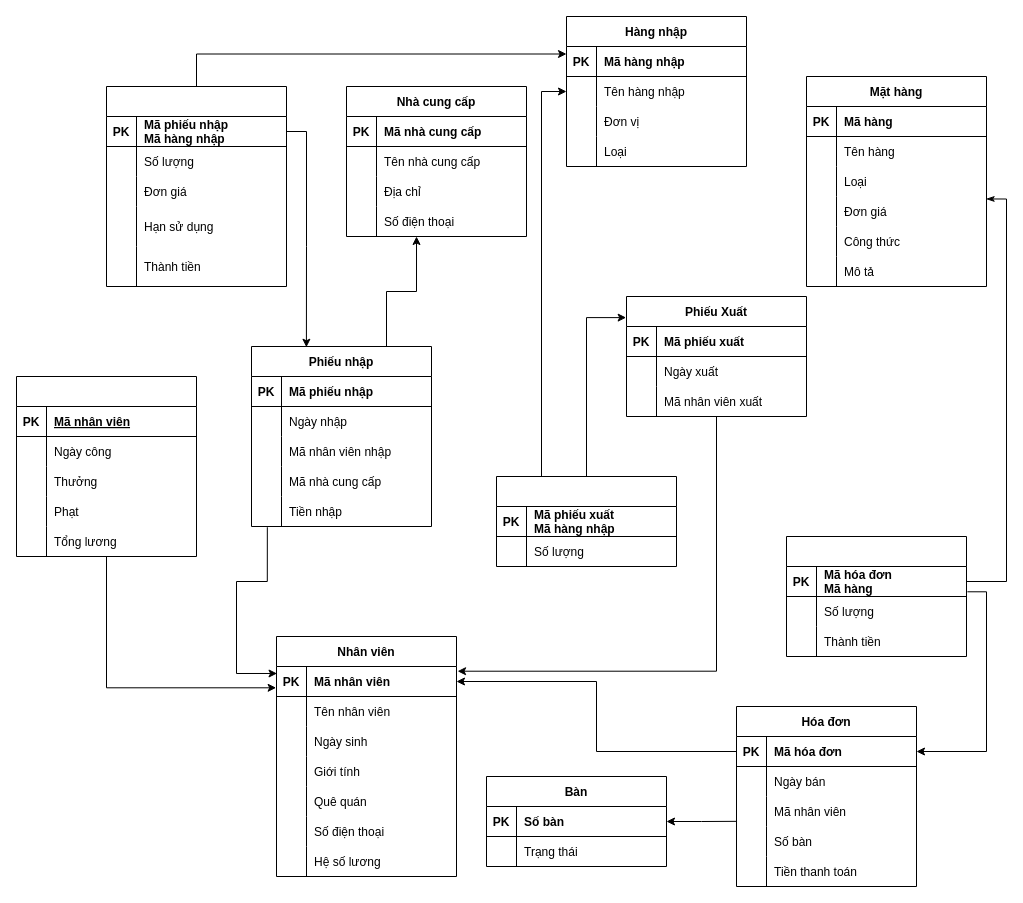
This 1023x903 diagram has some shape labels left out. Each missing label, with the box of its shape:
Bảng lương: (16, 376, 196, 556)
Chi tiết hóa đơn: (786, 536, 966, 656)
Chi tiết phiếu nhập: (106, 86, 286, 286)
Chi tiết phiếu xuất: (496, 476, 676, 566)
